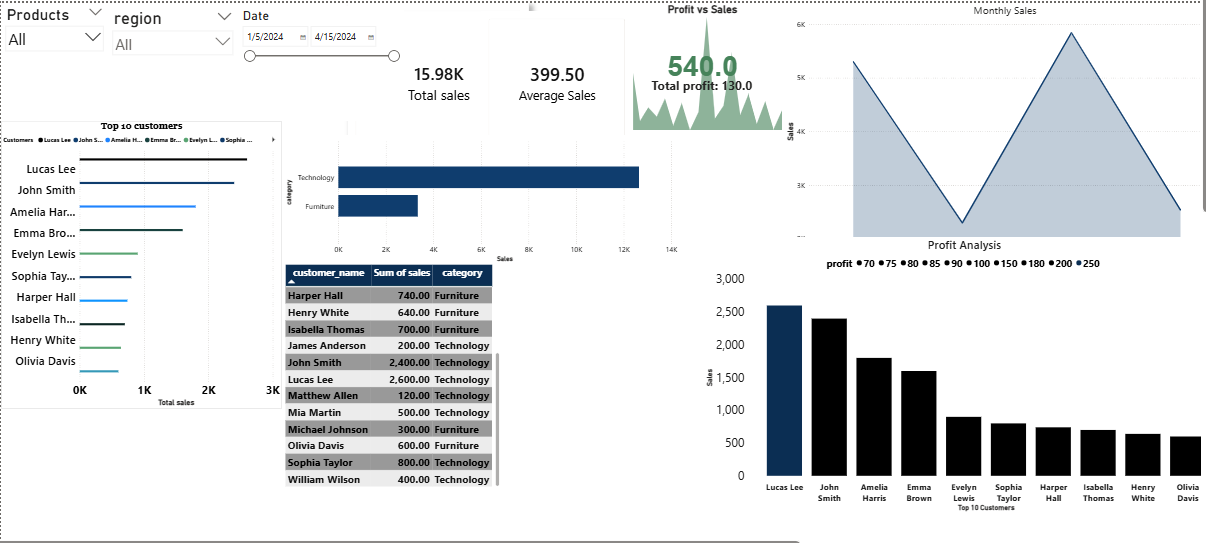

What the dashboard file says about the page in this screenshot:
{"tool":"powerbi","page":{"name":"Page 1","canvas":[4000,3000],"ordinal":0},"visuals":[{"type":"cardVisual","title":"Total sales","fields":{"Data":["sales.Total sales"]},"box":[771.1,0,402.2,351.1],"z":0},{"type":"clusteredBarChart","title":"Top 10 customers","fields":{"Category":["Top 10 customers.Customer_name "],"Y":["Sum(sales.sales)"],"Series":["Top 10 customers.Customer_name "]},"box":[0,262.5,625,640],"z":1000},{"type":"lineChart","title":"Monthly Sales ","fields":{"Y":["Sum(sales.sales)"],"Category":["sales.order_date.Variation.Date Hierarchy.Month"]},"box":[1740,0,982.9,574.3],"z":2000},{"type":"tableEx","fields":{"Values":["sales.customer_name","Sum(sales.sales)","sales.category"]},"box":[626,576,486,504],"z":3000},{"type":"slicer","fields":{"Values":["sales.product_name"]},"box":[0,0,237.5,262.5],"z":4000},{"type":"columnChart","title":"Profit Analysis","fields":{"Y":["Sum(sales.sales)"],"Series":["sales.profit"],"Category":["Top 10 customers.Customer_name "]},"box":[1560,520,1162.5,615],"z":5000},{"type":"kpi","title":"Profit vs Sales","fields":{"TrendLine":["sales.order_date"],"Goal":["sales.Total profit"],"Indicator":["Sum(sales.sales)"]},"box":[1377.5,0,362.5,287.5],"z":6000},{"type":"cardVisual","fields":{"Data":["sales.Average Sales"]},"box":[1066.7,17.8,337.8,315.6],"z":7000},{"type":"barChart","fields":{"Category":["sales.category"],"Y":["Sum(sales.sales)"]},"box":[626,294,882,288],"z":8000},{"type":"slicer","fields":{"Values":["sales.region"]},"box":[237.5,7.5,287.5,255],"z":9000},{"type":"slicer","fields":{"Values":["sales.order_date"]},"box":[525,7.5,370,255],"z":10000}]}

Visuals, with their boxes on the page's 4000x3000 design canvas (x1, y1, x2, y2). These are canvas units, not pixel positions in the 1206x543 screenshot, which may show the page scaled, cropped or inside an application window:
"Total sales" cardVisual: bbox=(771, 0, 1173, 351)
"Top 10 customers" clusteredBarChart: bbox=(0, 262, 625, 902)
"Monthly Sales " lineChart: bbox=(1740, 0, 2723, 574)
tableEx - sales.customer_name x Sum(sales.sales): bbox=(626, 576, 1112, 1080)
slicer - sales.product_name: bbox=(0, 0, 238, 262)
"Profit Analysis" columnChart: bbox=(1560, 520, 2722, 1135)
"Profit vs Sales" kpi: bbox=(1378, 0, 1740, 288)
cardVisual - sales.Average Sales: bbox=(1067, 18, 1404, 333)
barChart - sales.category x Sum(sales.sales): bbox=(626, 294, 1508, 582)
slicer - sales.region: bbox=(238, 8, 525, 262)
slicer - sales.order_date: bbox=(525, 8, 895, 262)
